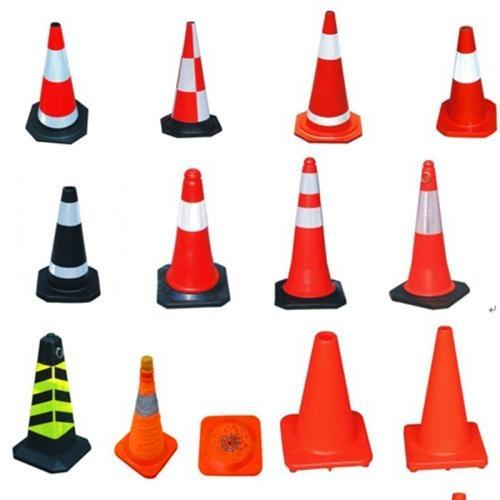cone_barrel: (278, 330, 368, 468), (400, 328, 484, 471), (393, 161, 465, 306), (275, 159, 344, 307), (15, 333, 89, 469), (157, 171, 228, 304), (290, 11, 363, 139), (111, 360, 177, 479), (32, 189, 101, 302), (24, 26, 88, 141), (429, 28, 495, 139), (159, 26, 222, 138)
